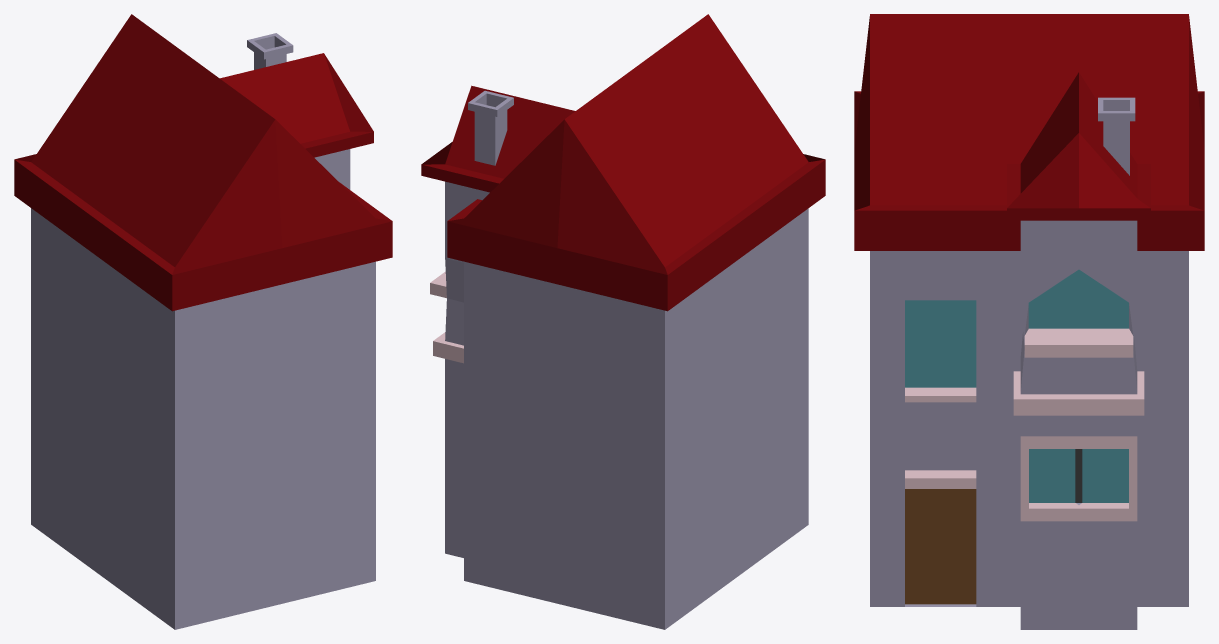
The model's file is House_4.glb.
3 renders of one model, left to right at view 1: azimuth 30°, elevation 25°; view 2: azimuth 150°, elevation 25°; view 3: azimuth 270°, elevation 25°, orthographic. The views are drawn at different scales.
Visible parts, largest first — view 1: House4; view 2: House4; view 3: House4.
Boxes of the visible parts, x1,y1,x2,y2 form: House4: (14,14,392,629); House4: (421,14,825,629); House4: (854,14,1204,629).
Bounding box in the file's own units: 3.54 × 6.08 × 3.58.
